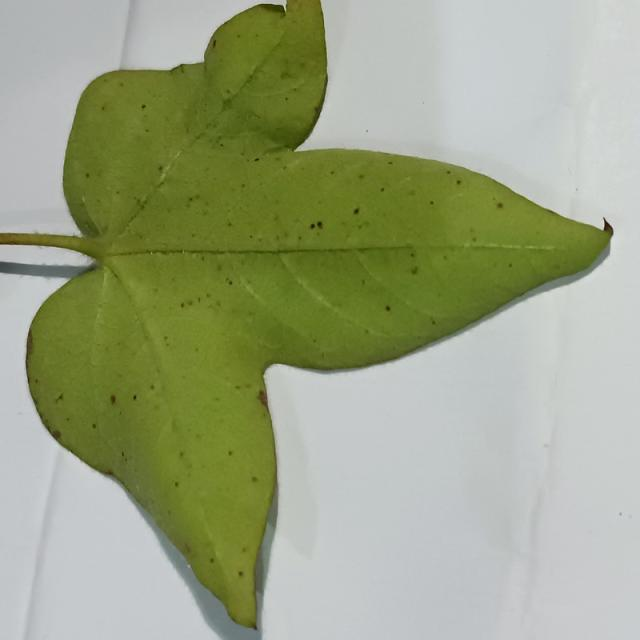Bacterial_Blight: (506, 346, 559, 632), (103, 266, 170, 412), (221, 256, 303, 339), (336, 243, 433, 256), (99, 261, 128, 302), (159, 145, 186, 185), (460, 240, 562, 250), (177, 293, 219, 311), (103, 387, 129, 412), (316, 71, 329, 119), (75, 215, 100, 237), (260, 142, 288, 161), (304, 214, 328, 236), (151, 155, 173, 178), (380, 299, 397, 320), (134, 192, 150, 213), (219, 95, 234, 115), (154, 168, 168, 188), (25, 329, 33, 359), (171, 63, 188, 77), (258, 389, 269, 409), (544, 206, 559, 218), (72, 230, 89, 239), (280, 70, 293, 80), (103, 466, 114, 477), (51, 430, 61, 440), (55, 392, 64, 403), (313, 106, 320, 117), (30, 228, 41, 235), (81, 195, 87, 207), (410, 266, 418, 275), (184, 543, 190, 553), (225, 277, 232, 285), (408, 189, 416, 196), (216, 264, 223, 271), (148, 250, 156, 256), (181, 249, 189, 255), (496, 202, 503, 208), (430, 318, 436, 325), (238, 570, 244, 577), (357, 173, 364, 179), (225, 88, 231, 94), (252, 476, 258, 482), (227, 450, 233, 456), (212, 39, 216, 48), (209, 557, 215, 563), (353, 208, 359, 214), (227, 221, 233, 227), (456, 179, 462, 185), (186, 563, 191, 569), (180, 302, 185, 308), (206, 292, 211, 298), (174, 481, 179, 487), (310, 223, 315, 229), (235, 384, 241, 389), (92, 423, 97, 429), (429, 200, 435, 205), (85, 172, 90, 178), (297, 235, 302, 241), (242, 547, 247, 553), (387, 160, 393, 165), (364, 329, 369, 334), (472, 237, 477, 242), (508, 263, 513, 268), (119, 82, 124, 87), (141, 104, 146, 109), (101, 106, 106, 111), (380, 187, 385, 192), (330, 170, 335, 175), (191, 232, 196, 237), (121, 451, 125, 457), (145, 128, 149, 133), (254, 158, 259, 162), (619, 512, 623, 517), (446, 170, 451, 174), (241, 183, 245, 188), (249, 234, 253, 239)
Cotton: (0, 0, 611, 628)
